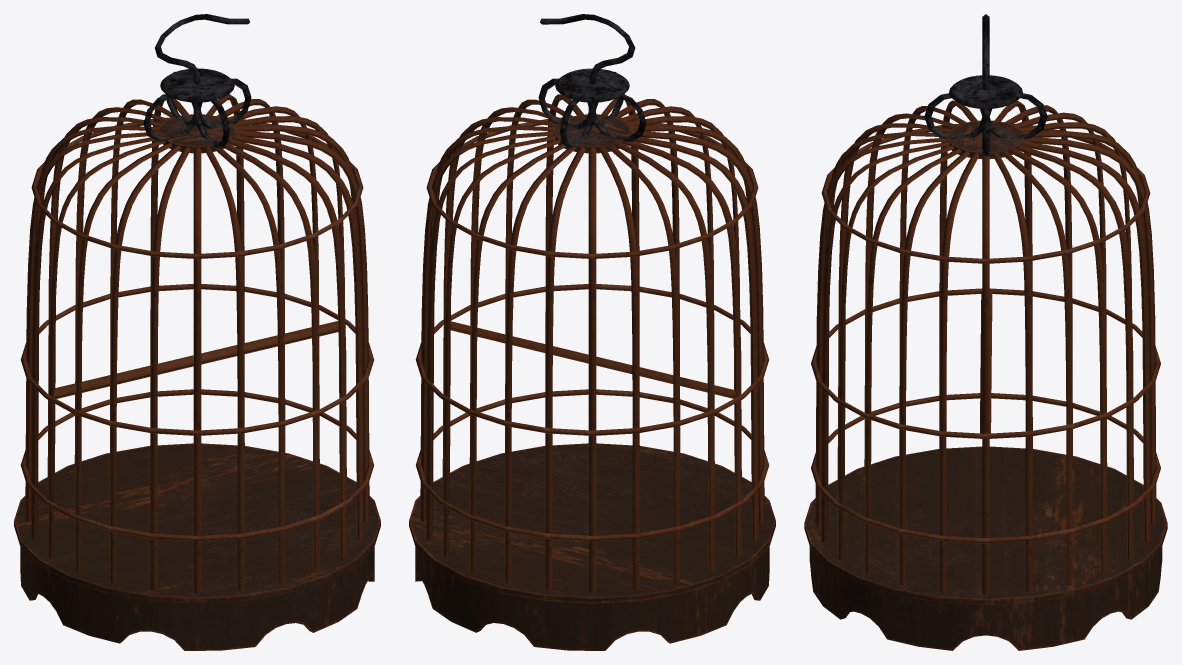
The model's file is hutongBirdCage.fbx.
3 views of the same model, side by side, from view 1: azimuth 30°, elevation 25°; view 2: azimuth 150°, elevation 25°; view 3: azimuth 270°, elevation 25° (orthographic).
Visible parts, largest first — view 1: geo_bird_cage; view 2: geo_bird_cage; view 3: geo_bird_cage.
Boxes of the visible parts, box(x1,y1,x2,y2) form: geo_bird_cage: box(14, 14, 380, 650); geo_bird_cage: box(409, 14, 775, 650); geo_bird_cage: box(804, 14, 1167, 650).
Size of the model in its own units: 60 by 101 by 60.
